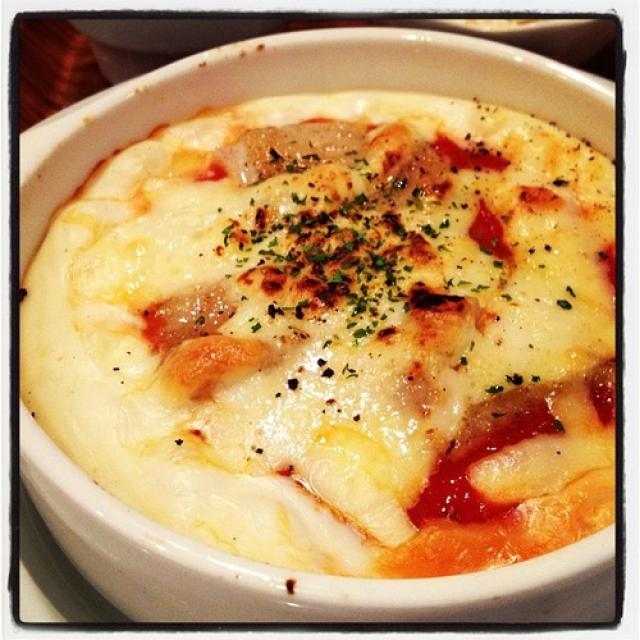米饭主食: (21, 28, 620, 616)
